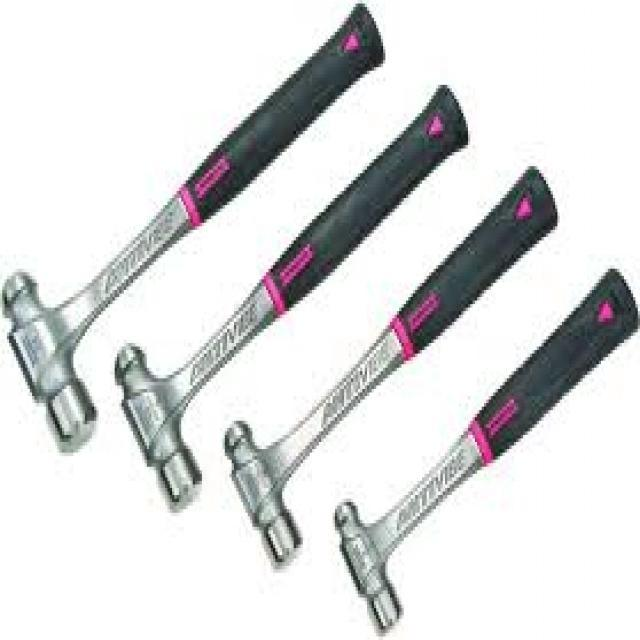hammer: (1, 0, 389, 463), (106, 80, 470, 514), (218, 160, 562, 574), (328, 258, 640, 633)
